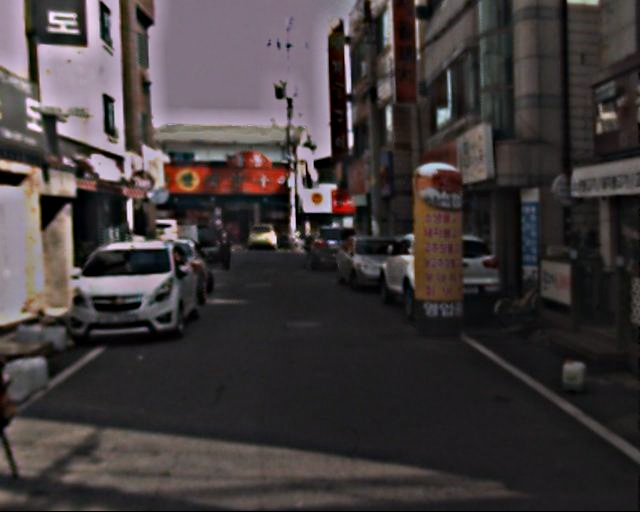person: (213, 219, 238, 276)
